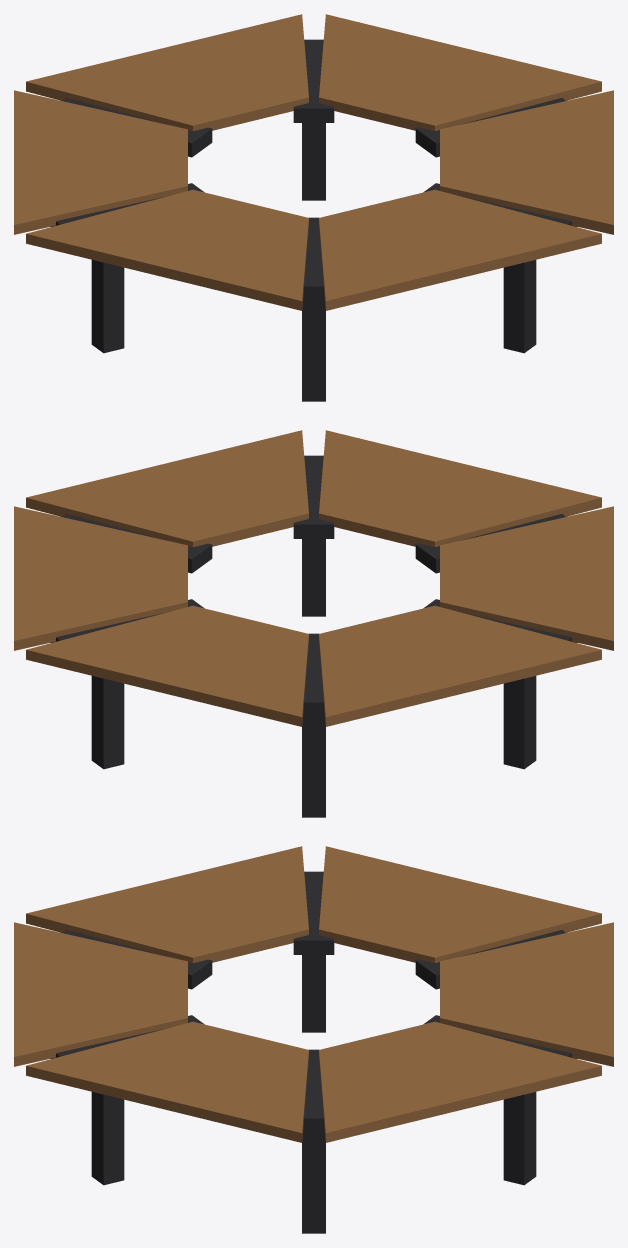
The model's file is FN_Bench_Tree.glb.
The picture shows the model from 3 angles, top to bottom: view 1: azimuth 30°, elevation 25°; view 2: azimuth 150°, elevation 25°; view 3: azimuth 270°, elevation 25°; orthographic projection.
Parts seen in each view (by area): view 1: FN_Bench_Tree; view 2: FN_Bench_Tree; view 3: FN_Bench_Tree.
Boxes of the visible parts, x1=… form: FN_Bench_Tree: x1=14, y1=14, x2=613, y2=401; FN_Bench_Tree: x1=14, y1=430, x2=613, y2=817; FN_Bench_Tree: x1=14, y1=846, x2=613, y2=1233.
Bounding box in the file's own units: 2 × 0.45 × 1.77.
Materials: 1 (1 with a texture image).
